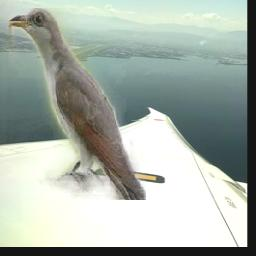Cuckoo: (9, 8, 146, 200)
